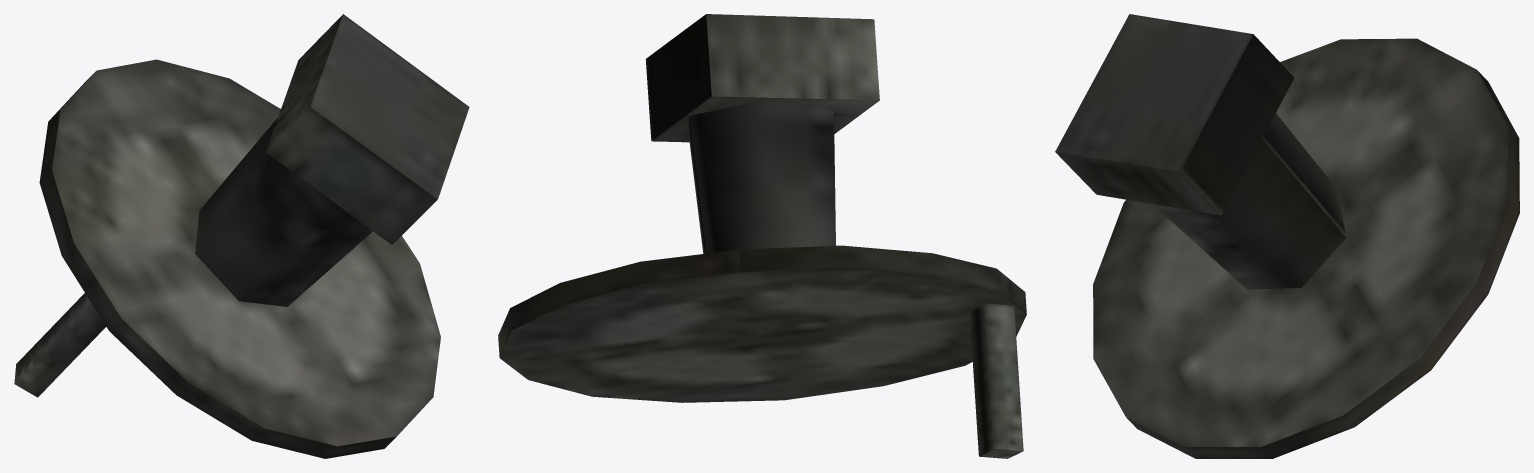
Rendered from prop_flak88_nm_piece0.glb.
3 renders of one model, left to right at view 1: azimuth 30°, elevation 25°; view 2: azimuth 150°, elevation 25°; view 3: azimuth 270°, elevation 25°, orthographic. The views are drawn at different scales.
Bounding box in the file's own units: 17.17 × 14.9 × 15.6.
1 material, 1 textured.
